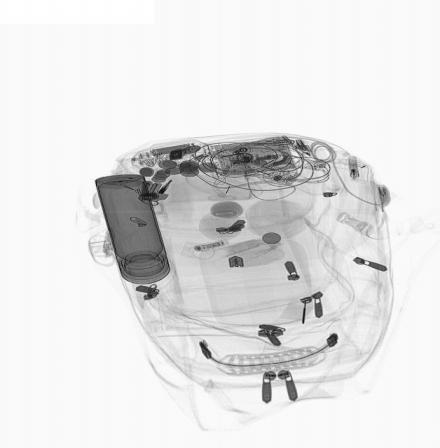Lighter: (347, 156, 361, 182)
